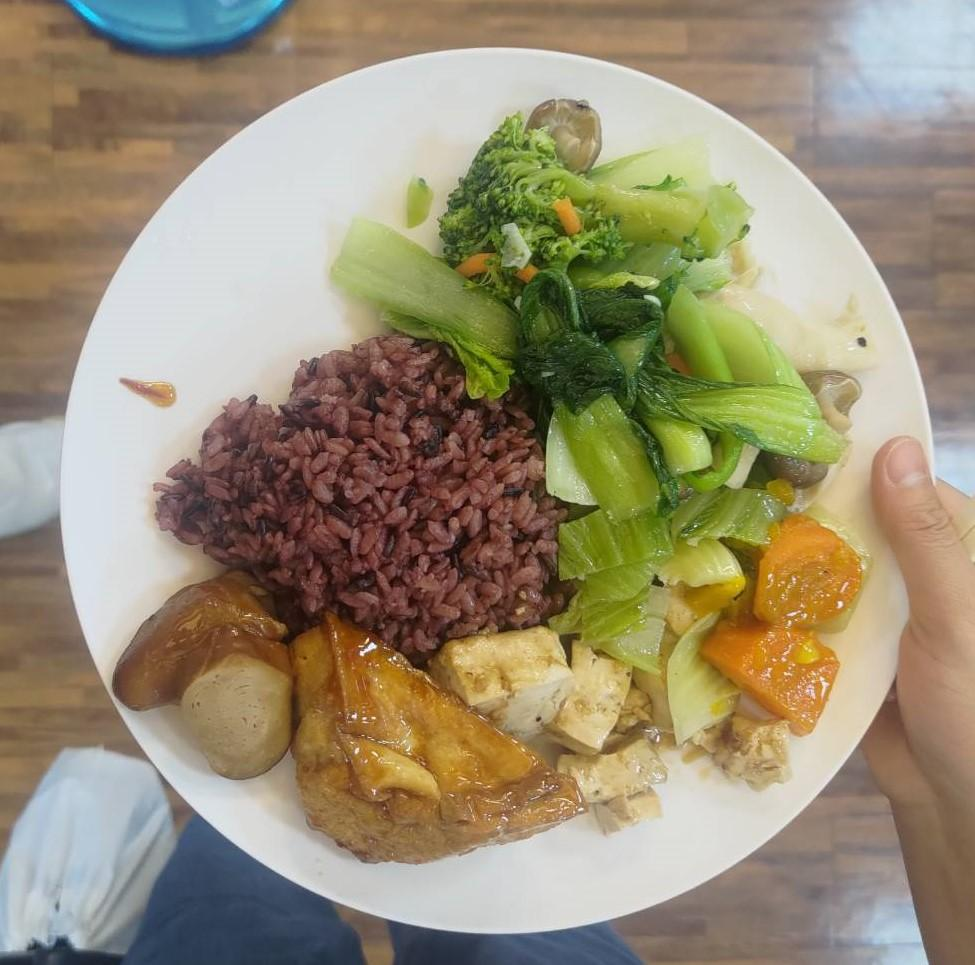big fried chicken leg: (54, 36, 945, 937)
braised fish: (156, 334, 582, 649)
braised fish fillet: (387, 102, 823, 606), (120, 572, 575, 861), (438, 625, 788, 804)
